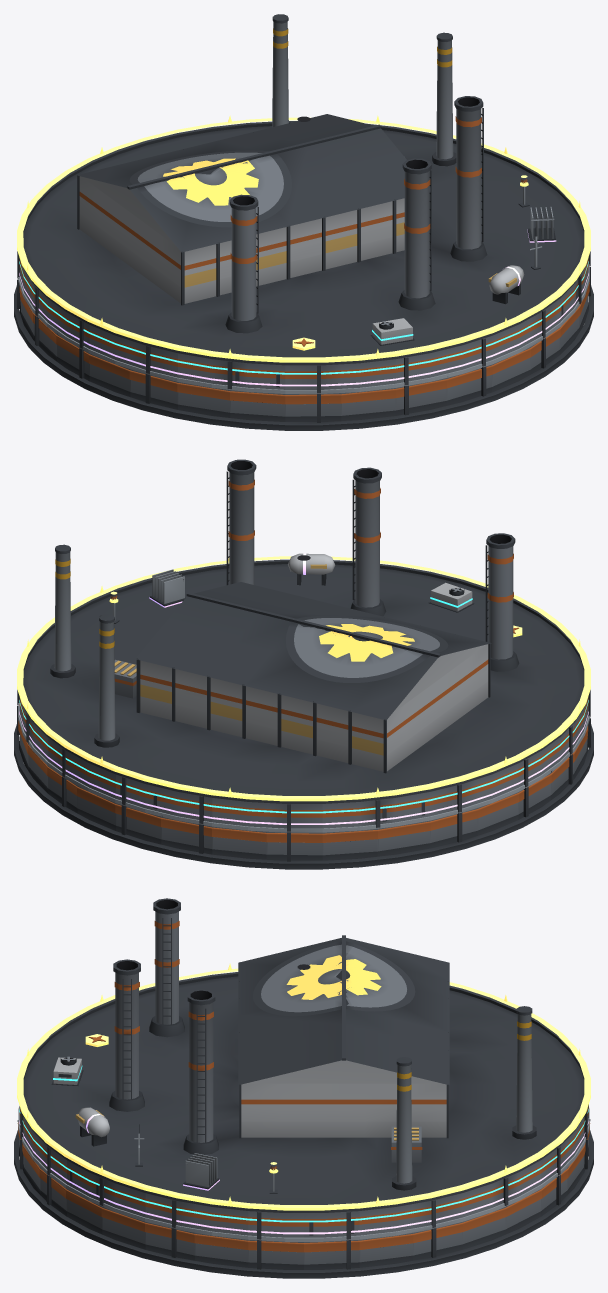
Rendered from refinery_xl_far.glb.
3 views of the same model, one above another, from view 1: azimuth 30°, elevation 25°; view 2: azimuth 150°, elevation 25°; view 3: azimuth 270°, elevation 25° (orthographic).
Visible parts, largest first — view 1: Roof, Base, L5, L4, L2, L3; view 2: Roof, Base, L5, L4, L2, L3; view 3: Roof, Base, L5, L4, L2, L3.
Part boxes in pixels (left/top/right/bottom): Roof: left=17, top=14, right=590, bottom=392; Base: left=14, top=267, right=593, bottom=430; L5: left=17, top=115, right=590, bottom=362; L4: left=19, top=207, right=588, bottom=386; L2: left=18, top=227, right=589, bottom=393; L3: left=19, top=261, right=588, bottom=374; Roof: left=17, top=459, right=590, bottom=831; Base: left=14, top=705, right=593, bottom=869; L5: left=17, top=556, right=590, bottom=801; L4: left=19, top=553, right=588, bottom=824; L2: left=18, top=703, right=589, bottom=832; L3: left=19, top=582, right=588, bottom=813; Roof: left=19, top=898, right=588, bottom=1239; Base: left=14, top=1119, right=593, bottom=1278; L5: left=17, top=963, right=590, bottom=1210; L4: left=19, top=1107, right=588, bottom=1234; L2: left=18, top=1106, right=589, bottom=1241; L3: left=19, top=1056, right=588, bottom=1222.
Size of the model in its own units: 23.15 by 9.52 by 23.15.
